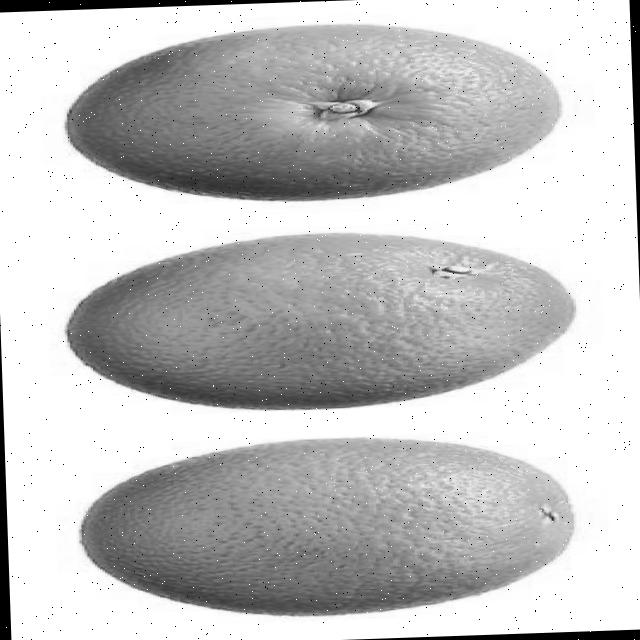Ripe: (59, 222, 594, 422), (71, 426, 594, 624), (55, 12, 572, 210)
